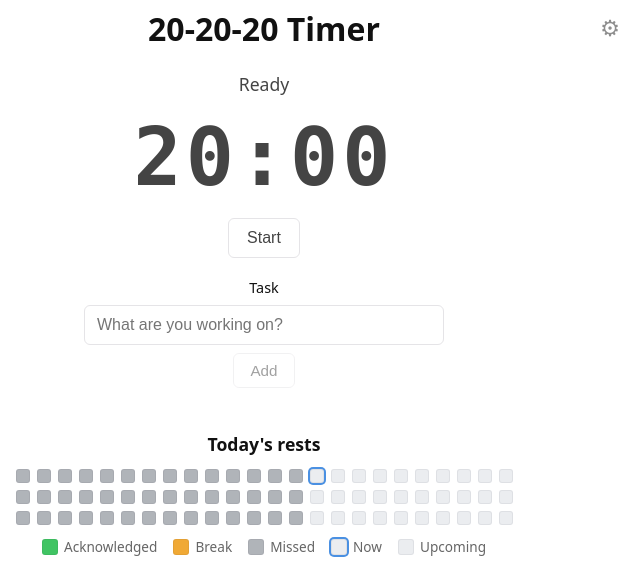
20-20-20 Timer › pause halts the countdown and resume continues it
Click the button "Start". click: (264, 238)
box: [228,218,300,258]
Wait 3000 ms
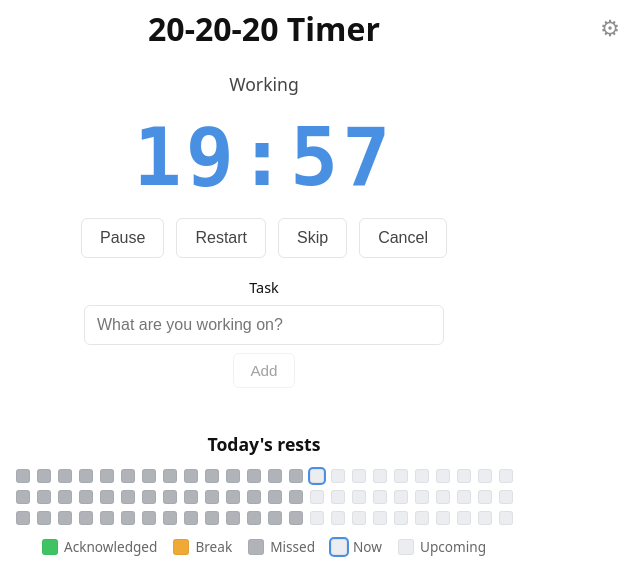
Now the text named "time remaining" reads "19:57", box [134,111,394,204]
Click the button "Pause". click: (123, 238)
box: [81,218,164,258]
Wait 5000 ms
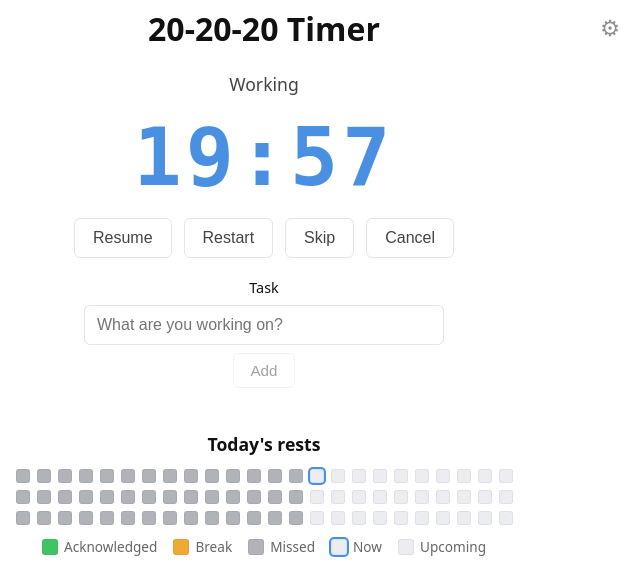
Now the text named "time remaining" reads "19:57", box [134,111,394,204]
Click the button "Resume". click: (123, 238)
box: [74,218,172,258]
Wait 2000 ms
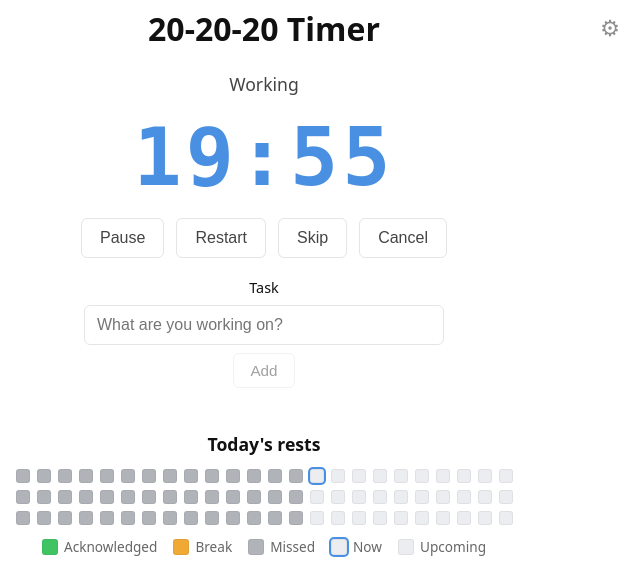
Now the text named "time remaining" reads "19:55", box [134,111,394,204]
